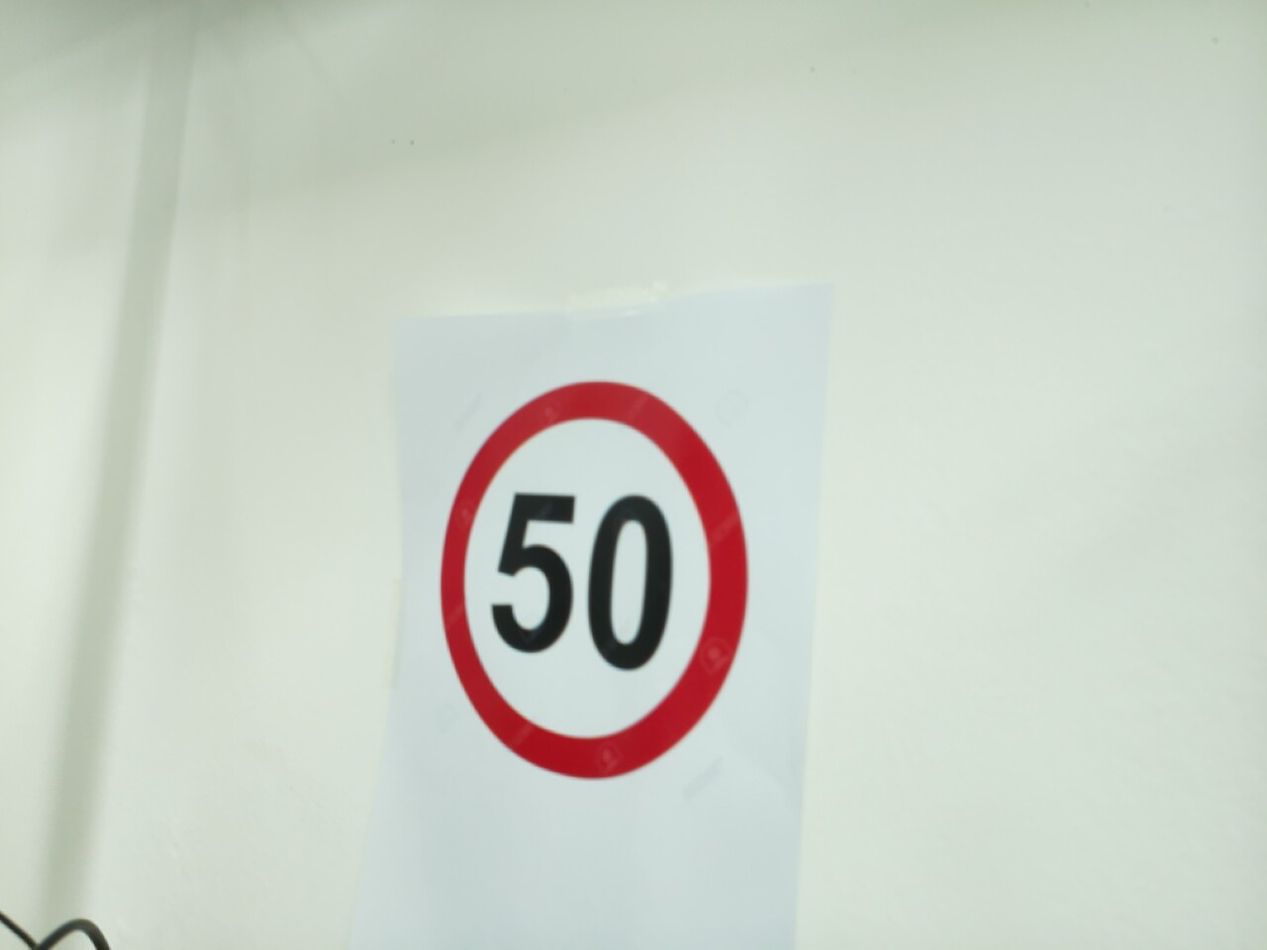speed_50: (431, 369, 758, 791)
